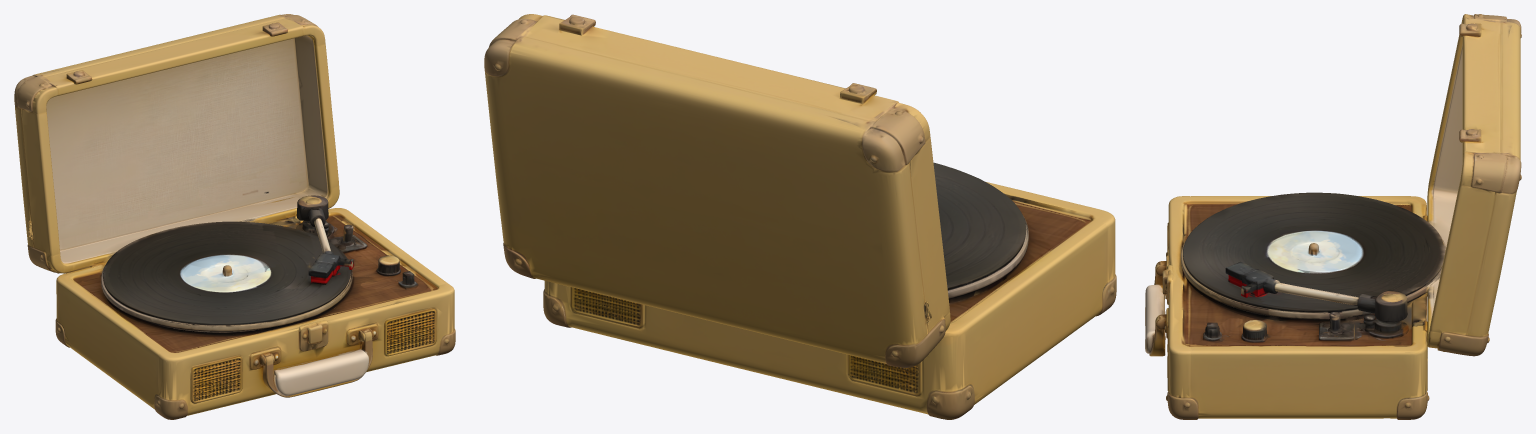
Rendered from record.glb.
The picture shows the model from 3 angles, left to right: view 1: azimuth 30°, elevation 25°; view 2: azimuth 150°, elevation 25°; view 3: azimuth 270°, elevation 25°; orthographic projection. The views are drawn at different scales.
Visible parts, largest first — view 1: node_0; view 2: node_0; view 3: node_0.
Part boxes in pixels (<box>): node_0: <box>14,14,455,419</box>; node_0: <box>484,14,1116,419</box>; node_0: <box>1145,14,1521,419</box>.
Size of the model in its own units: 0.7958 by 0.6239 by 0.7924.
1 material, 1 textured.
